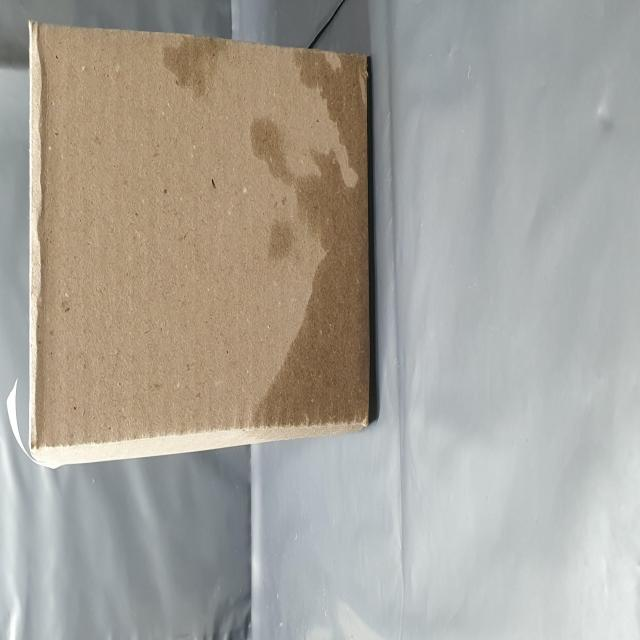wet: (119, 434, 337, 640), (298, 276, 342, 408)
